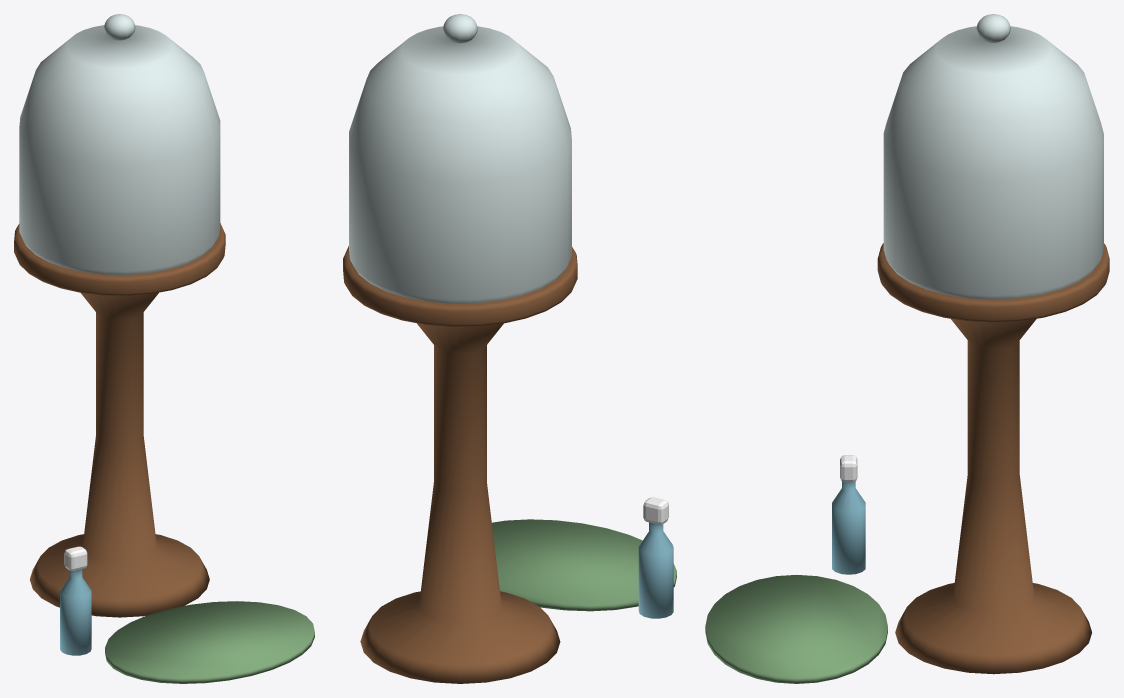
File: mossTerrarium.glb
3 renders of one model, left to right at view 1: azimuth 30°, elevation 25°; view 2: azimuth 150°, elevation 25°; view 3: azimuth 270°, elevation 25°, orthographic. The views are drawn at different scales.
Visible parts, largest first — view 1: body, cloche; view 2: cloche, body; view 3: body, cloche.
Part boxes in pixels (box(x1,y1,x2,y2)): body: box(14, 223, 314, 683); cloche: box(19, 14, 220, 274); cloche: box(349, 14, 571, 303); body: box(343, 246, 676, 683); body: box(705, 243, 1109, 683); cloche: box(883, 14, 1103, 299).
Size of the model in its own units: 0.48 by 1.17 by 0.6975.
